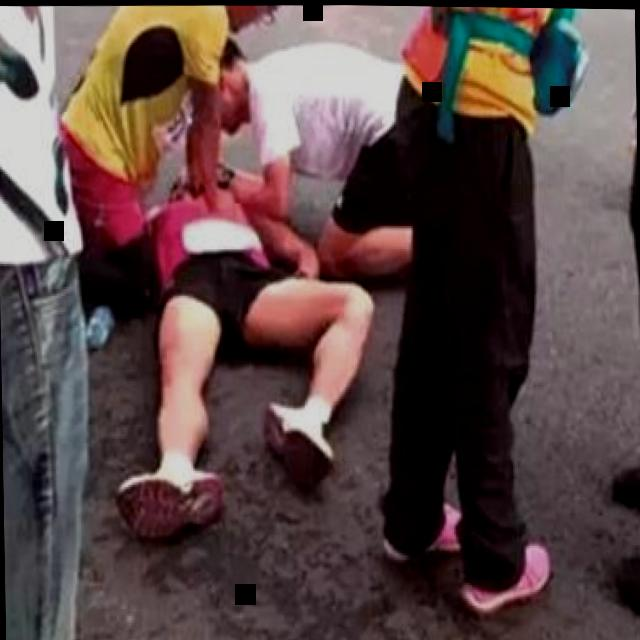Fall-Detected: (99, 116, 377, 554)
